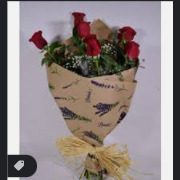RedRose: (123, 41, 144, 68), (28, 29, 50, 53), (84, 33, 103, 60), (117, 23, 137, 42), (70, 9, 87, 26), (73, 20, 90, 34)
